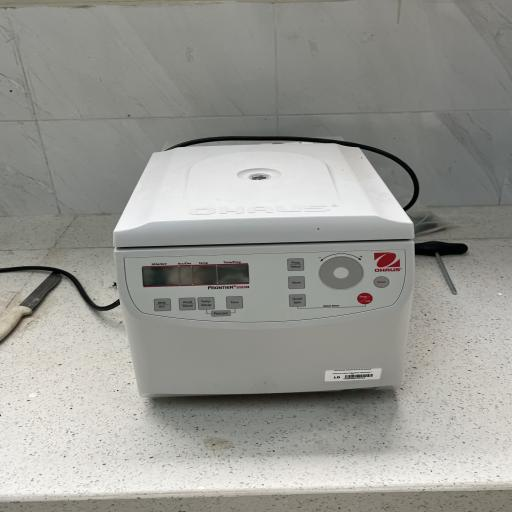Centrifuga_Ohaus_Frontier: (92, 131, 442, 416)
